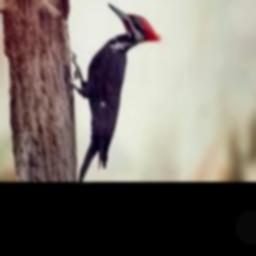Woodpecker: (69, 2, 161, 182)
